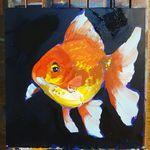goldfish: (27, 39, 138, 122)
